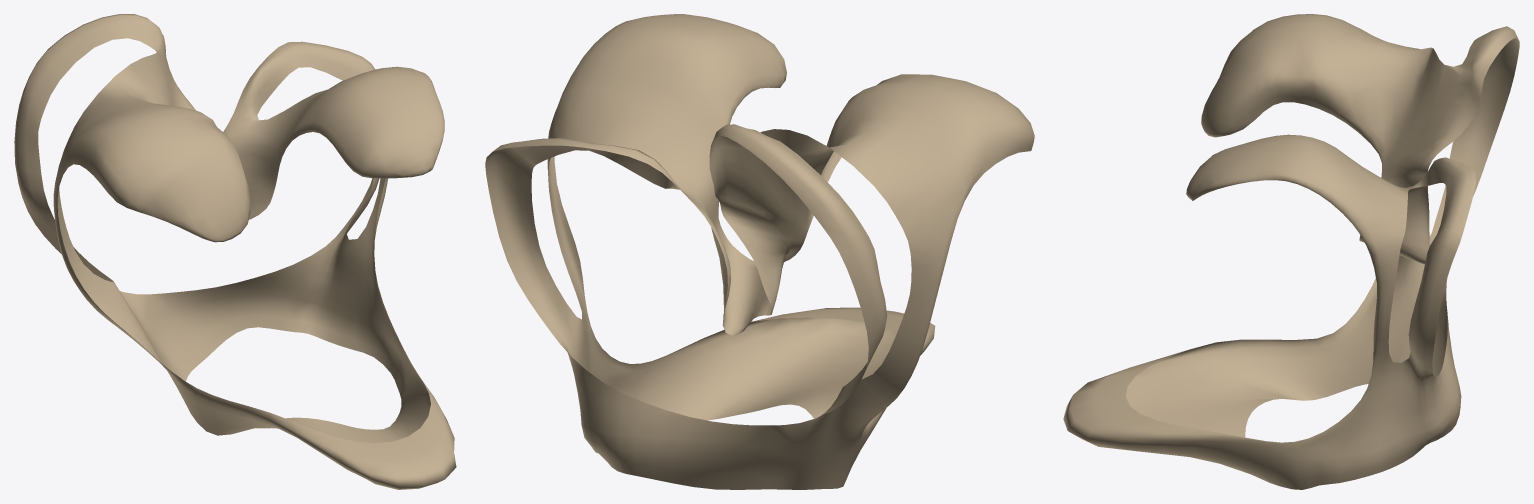
The picture shows the model from 3 angles, left to right: view 1: azimuth 30°, elevation 25°; view 2: azimuth 150°, elevation 25°; view 3: azimuth 270°, elevation 25°; orthographic projection. The views are drawn at different scales.
Visible parts, largest first — view 1: 左侧膝关节囊; view 2: 左侧膝关节囊; view 3: 左侧膝关节囊.
Boxes of the visible parts, x1,y1,x2,y2 form: 左侧膝关节囊: (14,14,456,489); 左侧膝关节囊: (485,14,1034,489); 左侧膝关节囊: (1063,14,1519,489).
Bounding box in the file's own units: 0.116 × 0.1121 × 0.1266.
